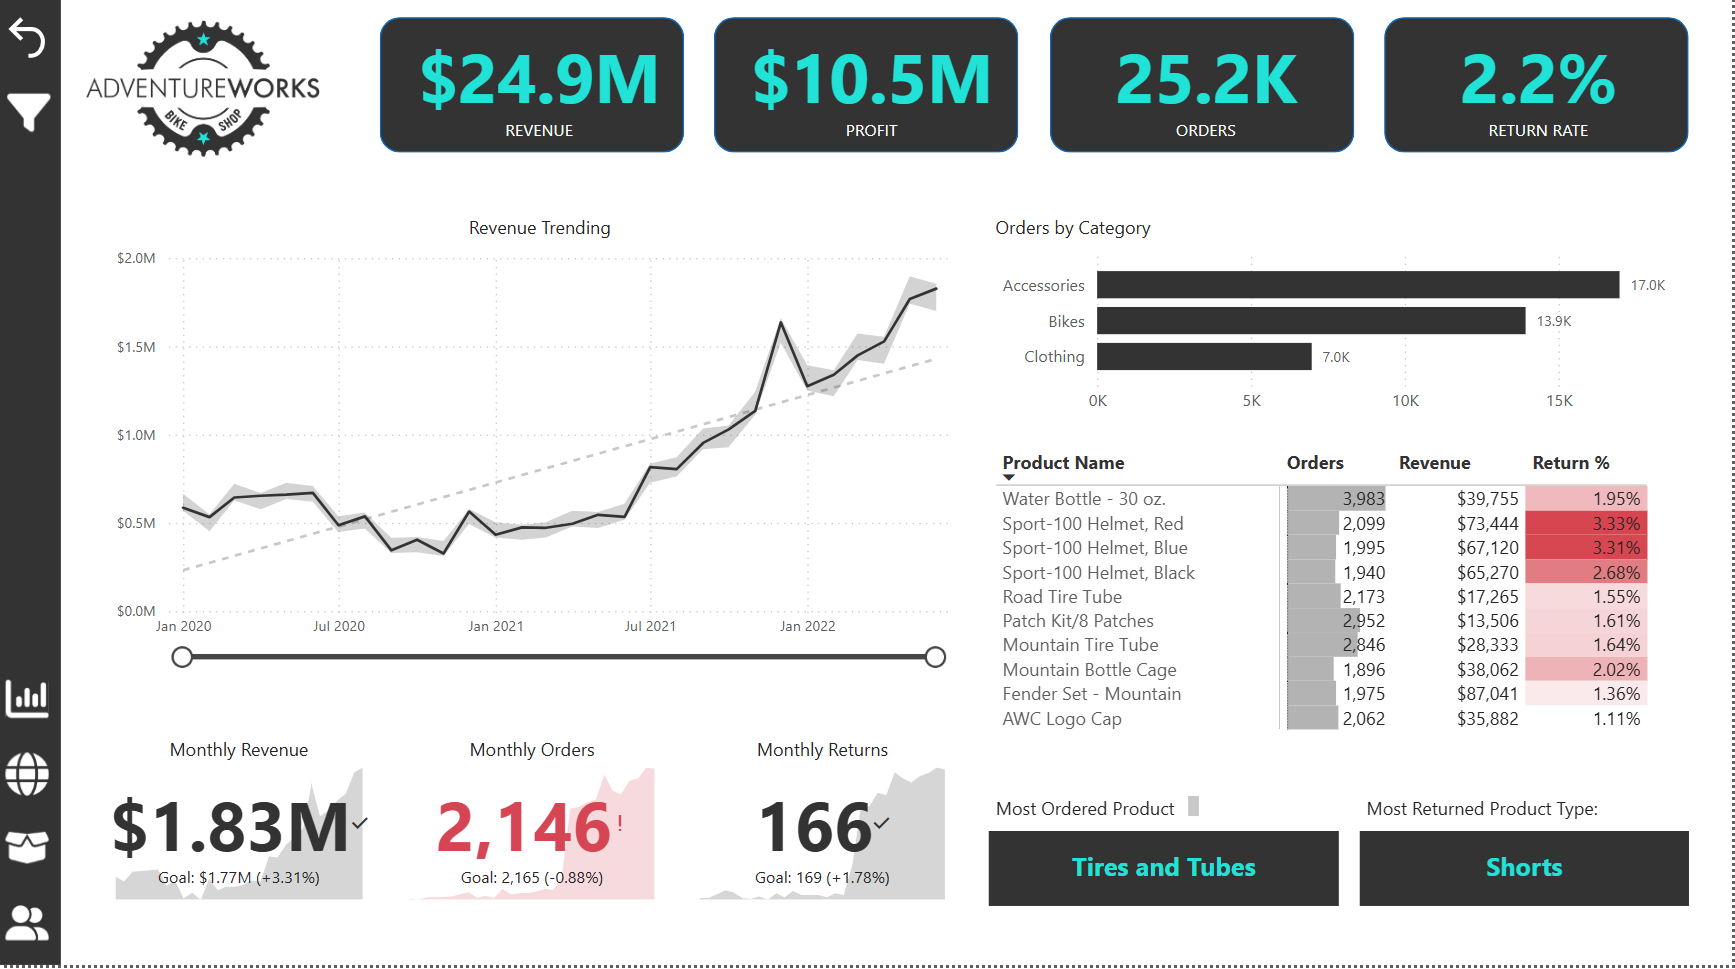

The page's visual inventory and layout, read from the dashboard file:
{"tool":"powerbi","page":{"name":"Exec Dashboard","canvas":[1280,720],"ordinal":0},"visuals":[{"type":"image","title":"AW Logo","box":[36.8,14.5,228.9,115.8],"z":0},{"type":"card","title":"Revenue","fields":{"Values":["Measure Table.Total Revenue"]},"box":[284.5,14.5,227.6,110.5],"z":0,"group":"g3"},{"type":"shape","box":[281.2,20,225,100],"z":0,"group":"g1"},{"type":"shape","title":"Left Nav Backgrounds","box":[0,1.7,45,719],"z":1000},{"type":"card","title":"Profit","fields":{"Values":["Measure Table.Total Profit"]},"box":[530.9,14.5,227.6,110.5],"z":1000,"group":"g3"},{"type":"shape","box":[776.2,20,225,100],"z":1000,"group":"g1"},{"type":"card","title":"Orders","fields":{"Values":["Measure Table.Total Orders"]},"box":[777.3,14.5,227.6,110.5],"z":2000,"group":"g3"},{"type":"group","id":"g1","title":"KPI Backgrounds","box":[281.2,20,967.5,100],"z":2000,"group":"g2"},{"type":"shape","box":[1023.7,20,225,100],"z":2000,"group":"g1"},{"type":"actionButton","box":[0,503.4,45.3,40.1],"z":2000},{"type":"group","id":"g2","title":"KPIs","box":[281.2,14.5,970.1,110.5],"z":3000},{"type":"group","id":"g3","title":"KPI Values","box":[284.5,14.5,966.8,110.5],"z":3000,"group":"g2"},{"type":"card","title":"Return Rate","fields":{"Values":["Measure Table.Return Rate"]},"box":[1023.6,14.5,227.6,110.5],"z":3000,"group":"g3"},{"type":"shape","box":[528.7,20,225,100],"z":3000,"group":"g1"},{"type":"actionButton","box":[0,558.6,45.3,40.1],"z":4000},{"type":"lineChart","title":"Revenue Trending","fields":{"Y":["Measure Table.Total Revenue"],"Category":["Calendar Lookup.Start of Month"]},"box":[80.2,165.6,637.9,337.7],"z":5000},{"type":"actionButton","box":[0,613.8,45.3,40.1],"z":6000},{"type":"kpi","title":"Monthly Revenue","fields":{"Indicator":["Measure Table.Total Revenue"],"TrendLine":["Calendar Lookup.Start of Month"],"Goal":["Measure Table.Previous Month Revenue"]},"box":[80.2,551.2,192.8,125.5],"z":7000},{"type":"actionButton","box":[0,669,45.3,40.1],"z":8000},{"type":"kpi","title":"Monthly Orders","fields":{"TrendLine":["Calendar Lookup.Start of Month"],"Indicator":["Measure Table.Total Orders"],"Goal":["Measure Table.Previous Month Orders"]},"box":[297.6,551.2,191.5,125.5],"z":9000},{"type":"kpi","title":"Monthly Returns","fields":{"TrendLine":["Calendar Lookup.Start of Month"],"Indicator":["Measure Table.Total Returns"],"Goal":["Measure Table.Previous Month Returns"]},"box":[512.4,551.2,191.5,125.5],"z":10000},{"type":"clusteredBarChart","title":"Orders by Category","fields":{"Category":["Product Categories Lookup.CategoryName"],"Y":["Measure Table.Total Orders"]},"box":[731.1,165.6,517.6,155.3],"z":11000},{"type":"pivotTable","fields":{"Rows":["Product Lookup.ProductName"],"Values":["Measure Table.Total Orders","Measure Table.Total Revenue","Measure Table.Return Rate"]},"box":[731.1,333.8,517.6,217.4],"z":12000},{"type":"card","fields":{"Values":["Min(Product Subcategories Lookup.SubcategoryName)"]},"box":[731.1,621.1,258.8,55.6],"z":13000},{"type":"textbox","box":[731.1,590.1,160.5,31.1],"z":14000},{"type":"card","fields":{"Values":["Min(Product Subcategories Lookup.SubcategoryName)"]},"box":[1005.4,621.1,243.3,55.6],"z":15000},{"type":"textbox","box":[1005.4,590.1,190.2,31.1],"z":16000},{"type":"actionButton","box":[0,14.2,45.3,40.1],"z":17000},{"type":"actionButton","box":[1.3,69.9,44,40.1],"z":18000}]}

Visuals, with their boxes on the page's 1280x720 design canvas (x1, y1, x2, y2). These are canvas units, not pixel positions in the 1735x969 screenshot, which may show the page scaled, cropped or inside an application window:
"AW Logo" image: {"left": 37, "top": 14, "right": 266, "bottom": 130}
"Revenue" card: {"left": 284, "top": 14, "right": 512, "bottom": 125}
shape: {"left": 281, "top": 20, "right": 506, "bottom": 120}
"Left Nav Backgrounds" shape: {"left": 0, "top": 2, "right": 45, "bottom": 721}
"Profit" card: {"left": 531, "top": 14, "right": 758, "bottom": 125}
shape: {"left": 776, "top": 20, "right": 1001, "bottom": 120}
"Orders" card: {"left": 777, "top": 14, "right": 1005, "bottom": 125}
"KPI Backgrounds" group: {"left": 281, "top": 20, "right": 1249, "bottom": 120}
shape: {"left": 1024, "top": 20, "right": 1249, "bottom": 120}
actionButton: {"left": 0, "top": 503, "right": 45, "bottom": 544}
"KPIs" group: {"left": 281, "top": 14, "right": 1251, "bottom": 125}
"KPI Values" group: {"left": 284, "top": 14, "right": 1251, "bottom": 125}
"Return Rate" card: {"left": 1024, "top": 14, "right": 1251, "bottom": 125}
shape: {"left": 529, "top": 20, "right": 754, "bottom": 120}
actionButton: {"left": 0, "top": 559, "right": 45, "bottom": 599}
"Revenue Trending" lineChart: {"left": 80, "top": 166, "right": 718, "bottom": 503}
actionButton: {"left": 0, "top": 614, "right": 45, "bottom": 654}
"Monthly Revenue" kpi: {"left": 80, "top": 551, "right": 273, "bottom": 677}
actionButton: {"left": 0, "top": 669, "right": 45, "bottom": 709}
"Monthly Orders" kpi: {"left": 298, "top": 551, "right": 489, "bottom": 677}
"Monthly Returns" kpi: {"left": 512, "top": 551, "right": 704, "bottom": 677}
"Orders by Category" clusteredBarChart: {"left": 731, "top": 166, "right": 1249, "bottom": 321}
pivotTable - Product Lookup.ProductName x Measure Table.Total Orders: {"left": 731, "top": 334, "right": 1249, "bottom": 551}
card - Min(Product Subcategories Lookup.SubcategoryName): {"left": 731, "top": 621, "right": 990, "bottom": 677}
textbox: {"left": 731, "top": 590, "right": 892, "bottom": 621}
card - Min(Product Subcategories Lookup.SubcategoryName): {"left": 1005, "top": 621, "right": 1249, "bottom": 677}
textbox: {"left": 1005, "top": 590, "right": 1196, "bottom": 621}
actionButton: {"left": 0, "top": 14, "right": 45, "bottom": 54}
actionButton: {"left": 1, "top": 70, "right": 45, "bottom": 110}
